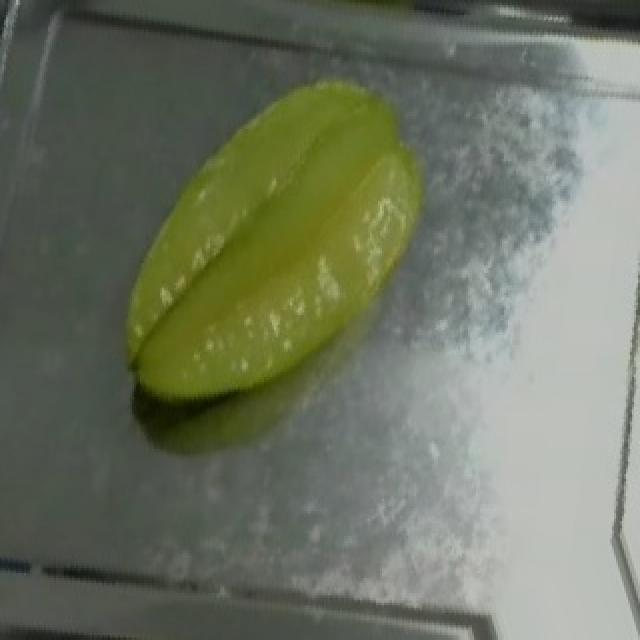fruit: (96, 45, 452, 429)
